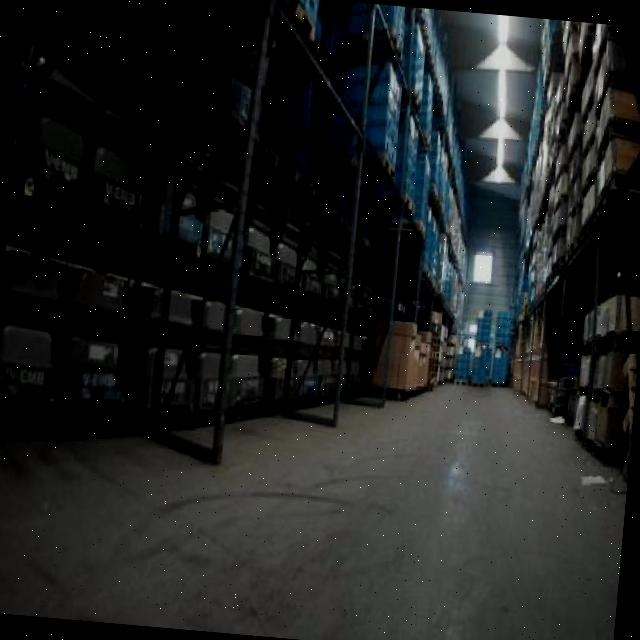pallet: (254, 137, 292, 183), (373, 150, 402, 187), (394, 189, 420, 218), (448, 376, 468, 391)
